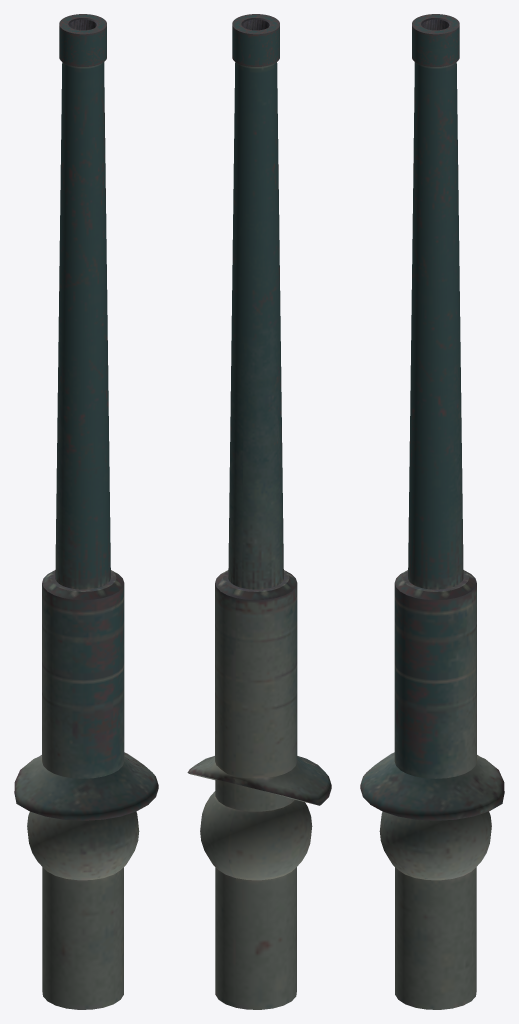
The model's file is Gun_04.glb.
3 views of the same model, side by side, from view 1: azimuth 30°, elevation 25°; view 2: azimuth 150°, elevation 25°; view 3: azimuth 330°, elevation 25° (orthographic).
Visible parts, largest first — view 1: set_0_group_0; view 2: set_0_group_0; view 3: set_0_group_0.
Boxes of the visible parts, x1,y1,x2,y2 form: set_0_group_0: [14, 14, 158, 1009]; set_0_group_0: [187, 14, 331, 1009]; set_0_group_0: [360, 14, 504, 1009].
Bounding box in the file's own units: 0.5001 × 3.54 × 0.4365.
Materials: 1 (1 with a texture image).
